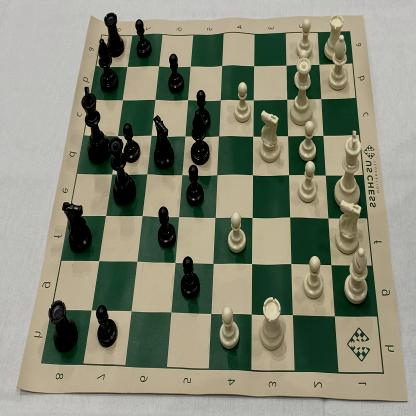bishop: (106, 15, 128, 56)
black-bishop: (98, 41, 122, 94), (94, 300, 117, 346)
black-king: (81, 81, 110, 166)
black-knight: (61, 199, 94, 250), (154, 108, 178, 166), (189, 116, 215, 169)
black-pawn: (176, 252, 200, 296), (156, 202, 178, 250), (185, 165, 207, 212), (167, 53, 187, 93), (123, 122, 141, 164), (194, 89, 212, 127), (134, 21, 152, 59)
black-queen: (106, 145, 136, 210)
black-rook: (48, 294, 78, 354)
white-bishop: (345, 244, 374, 304), (324, 38, 352, 100)
white-king: (335, 132, 364, 208), (256, 294, 286, 354)
white-knight: (336, 195, 365, 256), (258, 107, 284, 166)
white-pawn: (294, 151, 320, 204), (220, 300, 246, 349), (291, 112, 315, 163), (223, 208, 247, 254), (293, 20, 315, 63), (302, 255, 323, 299), (234, 82, 253, 126), (294, 51, 310, 89)
white-queen: (287, 61, 316, 114)
white-rook: (322, 12, 350, 74)
